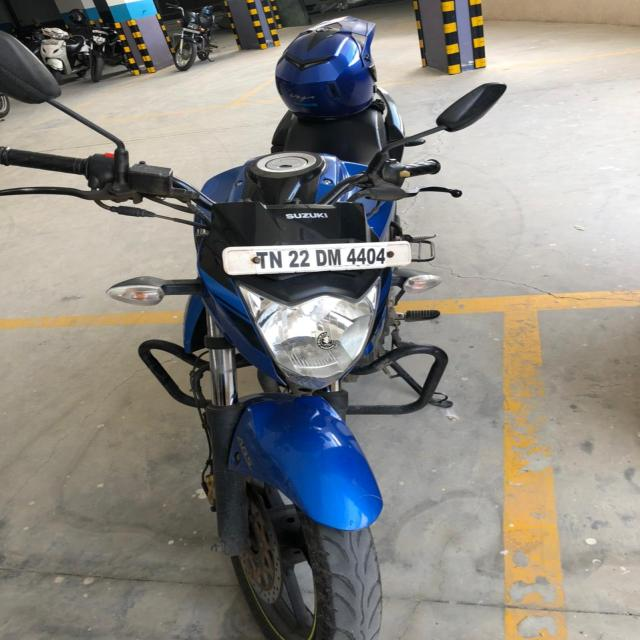license_plate: (221, 239, 412, 276)
